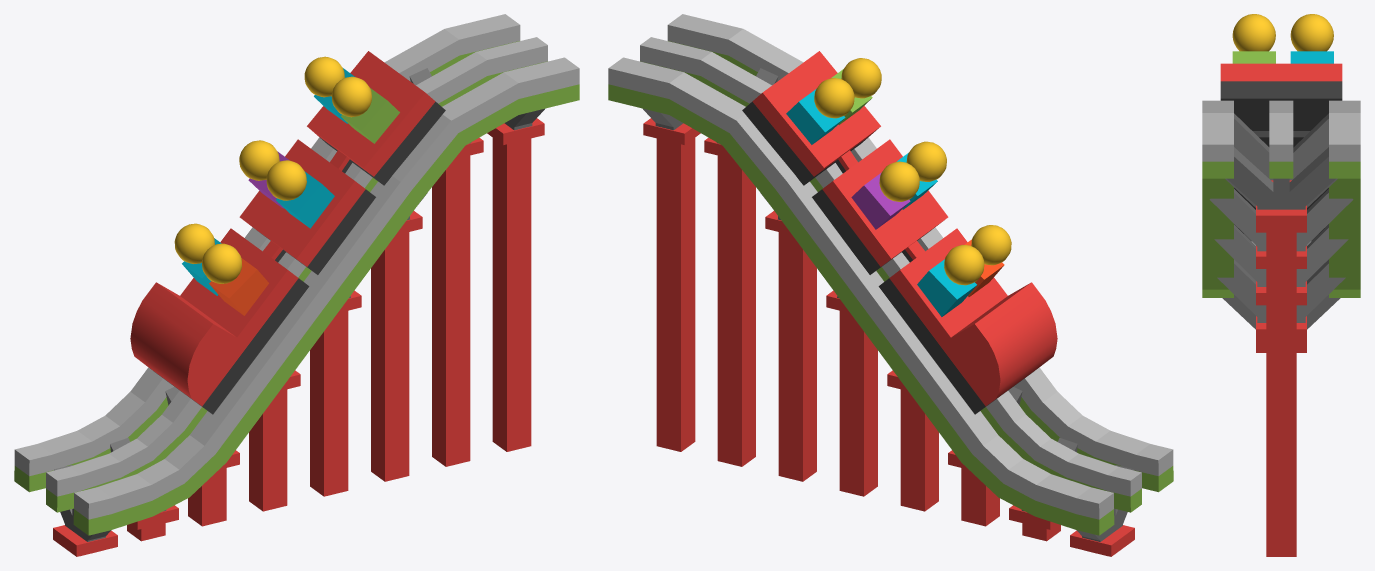
Rendered from roller_coaster.gltf.
3 views of the same model, side by side, from view 1: azimuth 30°, elevation 25°; view 2: azimuth 150°, elevation 25°; view 3: azimuth 270°, elevation 25° (orthographic). The views are drawn at different scales.
Visible parts, largest first — view 1: Cube.542, Cube.543, Cube.553; view 2: Cube.542, Cube.543, Cube.553; view 3: Cube.542, Cube.543, Cube.553, Cube.544, Cube.547, Cube.545, Cube.549, Cube.550, Cube.551.
Boxes of the visible parts, bbox=[...] form: Cube.542: bbox=[14, 14, 579, 535]; Cube.543: bbox=[53, 118, 544, 556]; Cube.553: bbox=[130, 51, 445, 414]; Cube.542: bbox=[608, 14, 1173, 535]; Cube.543: bbox=[643, 118, 1134, 556]; Cube.553: bbox=[742, 51, 1057, 414]; Cube.542: bbox=[1202, 100, 1360, 297]; Cube.543: bbox=[1256, 180, 1306, 556]; Cube.553: bbox=[1220, 14, 1342, 240]; Cube.544: bbox=[1227, 147, 1335, 209]; Cube.547: bbox=[1209, 189, 1353, 251]; Cube.545: bbox=[1234, 113, 1328, 180]; Cube.549: bbox=[1214, 224, 1348, 286]; Cube.550: bbox=[1217, 259, 1345, 322]; Cube.551: bbox=[1222, 295, 1340, 329].
Size of the model in its own units: 2.26 by 1.83 by 0.5903.
1 material, 1 textured.
